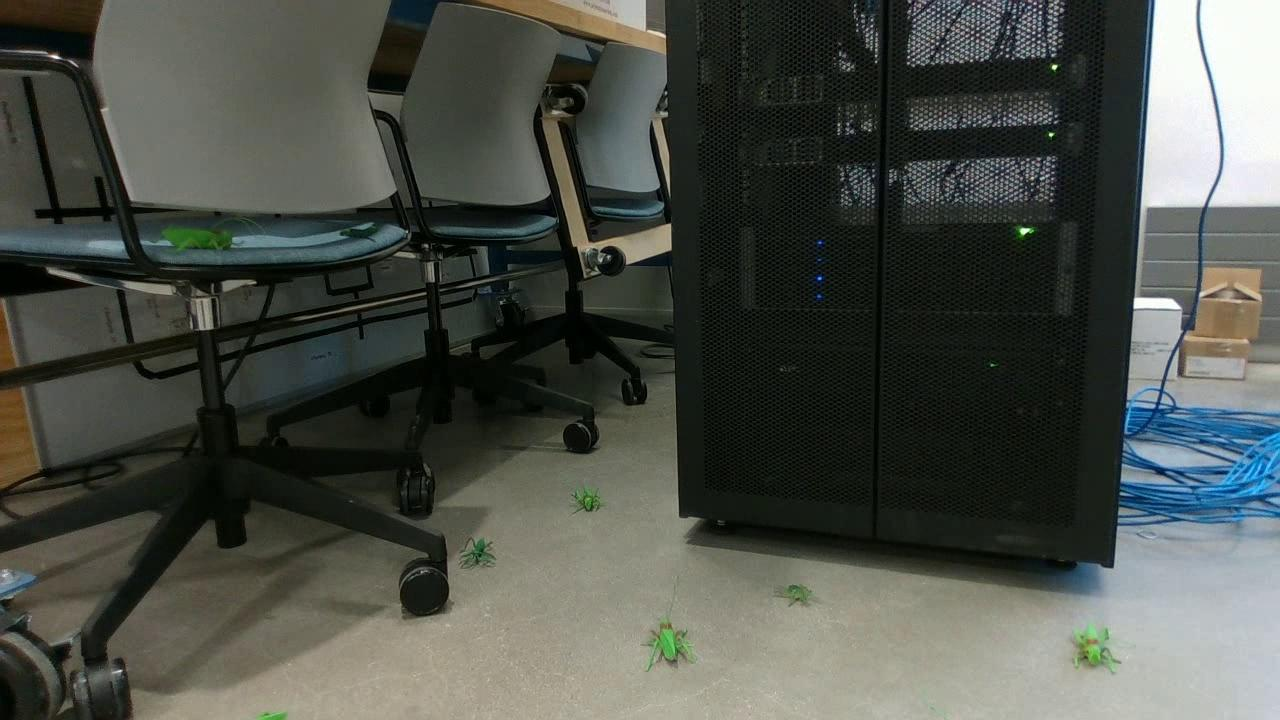grasshopper: (1071, 623, 1121, 675), (644, 621, 699, 663), (151, 227, 239, 245), (572, 487, 602, 511)
